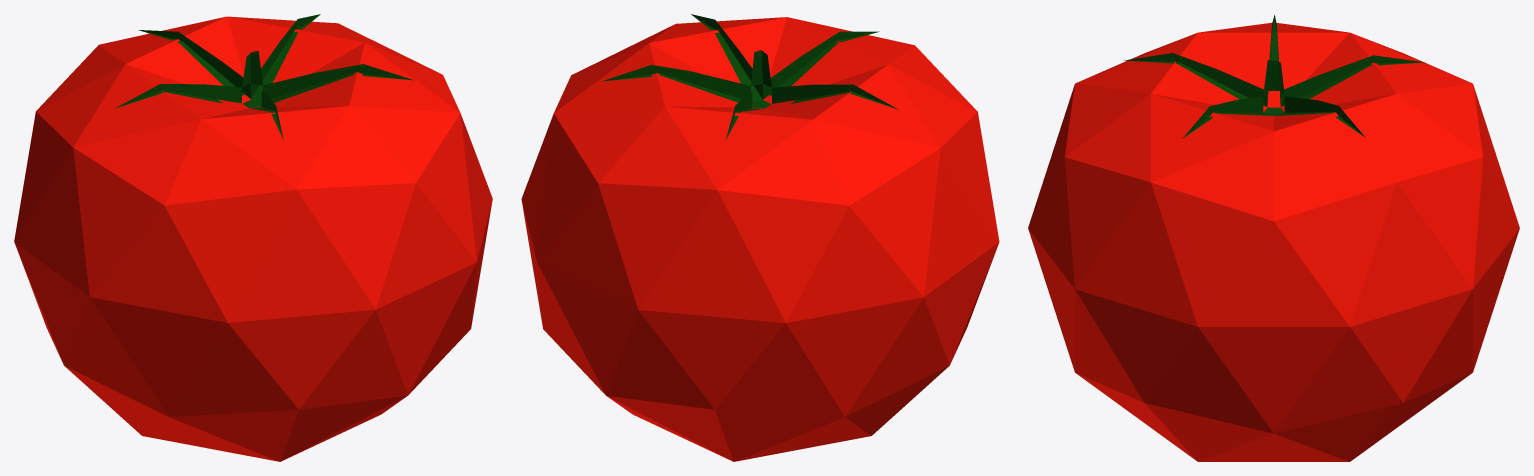
File: Pomodoro.fbx
3 views of the same model, side by side, from view 1: azimuth 30°, elevation 25°; view 2: azimuth 150°, elevation 25°; view 3: azimuth 270°, elevation 25° (orthographic).
Visible parts, largest first — view 1: Icosphere.005; view 2: Icosphere.005; view 3: Icosphere.005.
Boxes of the visible parts, x1,y1,x2,y2 form: Icosphere.005: (14,14,492,461); Icosphere.005: (521,14,999,461); Icosphere.005: (1028,15,1519,461).
Size of the model in its own units: 4.7 by 4.34 by 4.94.
